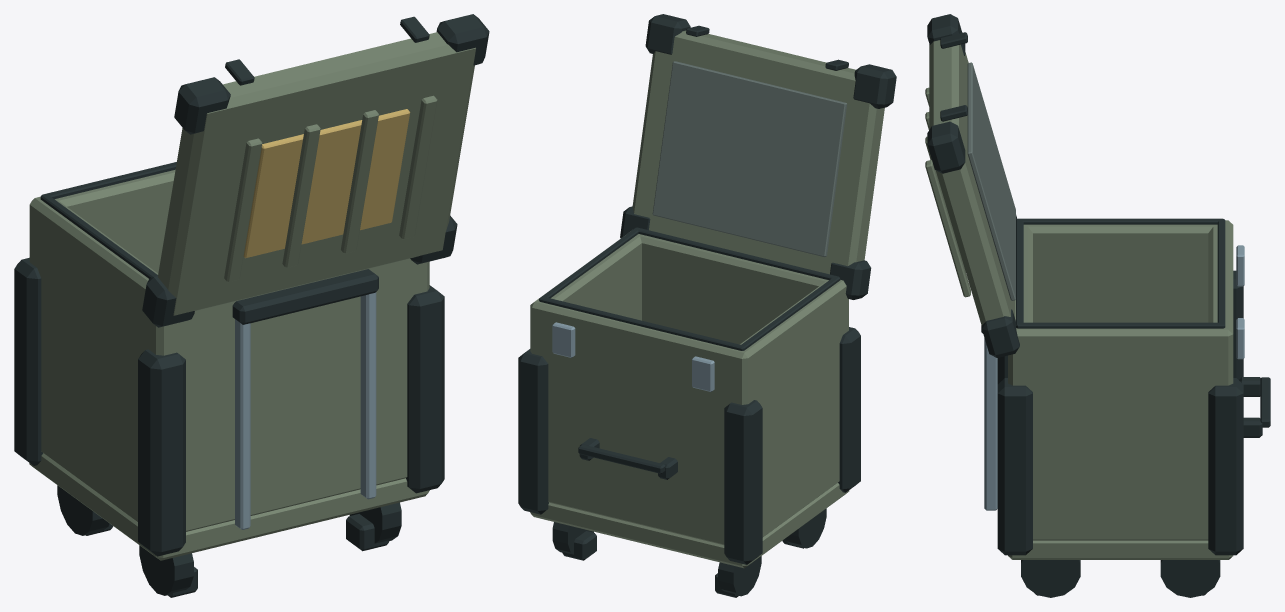
The model's file is rolling_logistics_case_opened.glb.
3 views of the same model, side by side, from view 1: azimuth 30°, elevation 25°; view 2: azimuth 150°, elevation 25°; view 3: azimuth 270°, elevation 25° (orthographic). The views are drawn at different scales.
Visible parts, largest first — view 1: moving_lid, body_back_wall, body_side_wall, corner_pad (×3), moving_lid_identity, moving_rib (×4), body_floor, body_tow_rail (×2), body_front_wall, moving_corner_cap (×4), caster_wheel (×3), body_tow_grip (+2 smaller); view 2: body_front_wall, moving_lid_pad, body_side_wall (×2), moving_lid, corner_pad (×3), body_back_wall, body_floor, moving_corner_cap (×4), rim_seal (×4), caster_wheel (×3), latch_base (×2), front_carry_grip (+1 smaller); view 3: body_side_wall (×2), corner_pad (×3), moving_lid, moving_lid_pad, rim_seal (×4), caster_wheel (×2), body_floor, moving_corner_cap (×3), body_front_wall, body_tow_rail, body_back_wall, moving_rib (+1 smaller).
Boxes of the visible parts, x1,y1,x2,y2 form: moving_lid: (158,32,475,315); body_back_wall: (147,258,426,531); body_side_wall: (29,196,178,521); corner_pad (×3): (14,257,444,556); moving_lid_identity: (243,109,410,258); moving_rib (×4): (224,95,437,282); body_floor: (29,453,429,560); body_tow_rail (×2): (235,292,376,529); body_front_wall: (29,169,175,273); moving_corner_cap (×4): (142,14,489,327); caster_wheel (×3): (57,485,401,595); body_tow_grip: (232,269,378,324); body_front_wall: (532,302,754,545); moving_lid_pad: (652,61,847,256); body_side_wall (×2): (530,231,848,537); moving_lid: (632,30,884,274); corner_pad (×3): (518,327,860,564); body_back_wall: (637,234,848,344); body_floor: (530,483,849,568); moving_corner_cap (×4): (620,14,896,299); rim_seal (×4): (539,227,840,350); caster_wheel (×3): (552,508,826,596); latch_base (×2): (552,322,714,391); front_carry_grip: (578,444,665,473); body_side_wall (×2): (1008,220,1233,540); corner_pad (×3): (997,270,1243,555); moving_lid: (929,40,1014,325); moving_lid_pad: (967,62,1015,300); rim_seal (×4): (1016,218,1225,328); caster_wheel (×2): (1021,560,1220,597); body_floor: (1008,540,1233,559); moving_corner_cap (×3): (927,14,1019,357); body_front_wall: (1208,220,1233,386); body_tow_rail: (984,338,997,510); body_back_wall: (1013,225,1032,386); moving_rib: (925,160,970,297).
Size of the model in its own units: 1.01 by 1.81 by 1.18.
